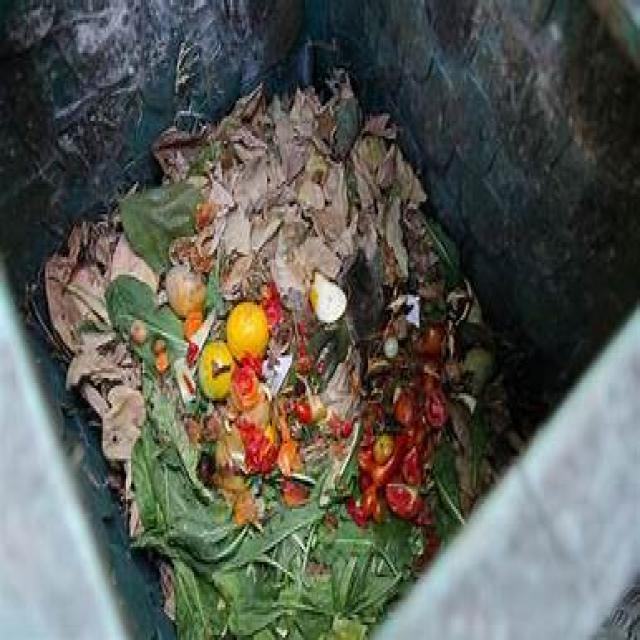Garbage: (46, 76, 511, 637)
